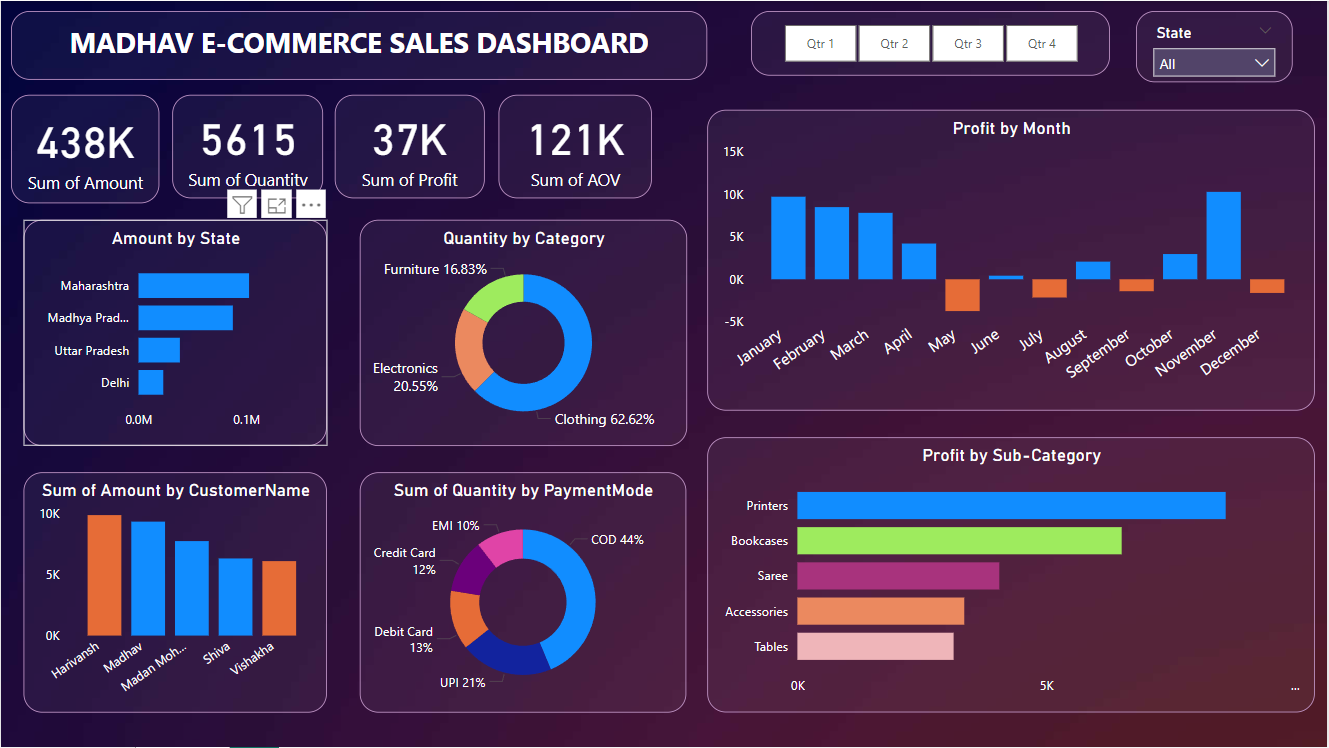

The page's visual inventory and layout, read from the dashboard file:
{"tool":"powerbi","page":{"name":"Page 1","canvas":[1280,720],"ordinal":0},"visuals":[{"type":"textbox","box":[9.7,9.7,672,66.4],"z":0},{"type":"columnChart","title":"Profit by Month","fields":{"Y":["Details.Profit"],"Category":["Orders.Order Date.Variation.Date Hierarchy.Month"]},"box":[681.6,105,586.3,290.8],"z":1000},{"type":"barChart","title":"Profit by Sub-Category","fields":{"Category":["Details.Sub-Category"],"Y":["Details.Profit"]},"box":[681.6,421,586.3,265.4],"z":2000},{"type":"donutChart","title":"Quantity by Category","fields":{"Y":["Details.Quantity"],"Category":["Details.Category"]},"box":[346.2,211.1,316.1,218.4],"z":3000},{"type":"card","fields":{"Values":["Details.Amount"]},"box":[9.7,90.5,143.6,105],"z":4000},{"type":"card","fields":{"Values":["Details.Profit"]},"box":[322.1,90.5,144.8,100.1],"z":5000},{"type":"card","fields":{"Values":["Details.Quantity"]},"box":[165.3,90.5,146,100.1],"z":6000},{"type":"card","fields":{"Values":["Details.AOV"]},"box":[480.2,90.5,148.4,100.1],"z":7000},{"type":"barChart","title":"Amount by State","fields":{"Category":["Orders.State"],"Y":["Details.Amount"]},"box":[21.7,211.1,293.2,218.4],"z":8000},{"type":"columnChart","fields":{"Y":["Details.Amount"],"Category":["Orders.CustomerName"]},"box":[21.7,454.8,293.2,231.6],"z":9000},{"type":"donutChart","fields":{"Y":["Details.Quantity"],"Category":["Details.PaymentMode"]},"box":[346.2,454.8,314.9,231.6],"z":10000},{"type":"slicer","fields":{"Values":["Orders.Order Date.Variation.Date Hierarchy.Quarter"]},"box":[723.9,9.7,346.2,62.7],"z":11000},{"type":"slicer","fields":{"Values":["Orders.State"]},"box":[1095.4,9.7,150.8,68.8],"z":12000}]}

Visuals, with their boxes in screenshot pixels (x1, y1, x2, y2), scaled from the page's 1280x720 canvas onto the 1329x748 screenshot:
textbox: pyautogui.locateOnScreen(10, 10, 708, 79)
"Profit by Month" columnChart: pyautogui.locateOnScreen(708, 109, 1316, 411)
"Profit by Sub-Category" barChart: pyautogui.locateOnScreen(708, 437, 1316, 713)
"Quantity by Category" donutChart: pyautogui.locateOnScreen(359, 219, 688, 446)
card - Details.Amount: pyautogui.locateOnScreen(10, 94, 159, 203)
card - Details.Profit: pyautogui.locateOnScreen(334, 94, 485, 198)
card - Details.Quantity: pyautogui.locateOnScreen(172, 94, 323, 198)
card - Details.AOV: pyautogui.locateOnScreen(499, 94, 653, 198)
"Amount by State" barChart: pyautogui.locateOnScreen(23, 219, 327, 446)
columnChart - Details.Amount x Orders.CustomerName: pyautogui.locateOnScreen(23, 472, 327, 713)
donutChart - Details.Quantity x Details.PaymentMode: pyautogui.locateOnScreen(359, 472, 686, 713)
slicer - Orders.Order Date.Variation.Date Hierarchy.Quarter: pyautogui.locateOnScreen(752, 10, 1111, 75)
slicer - Orders.State: pyautogui.locateOnScreen(1137, 10, 1294, 82)
